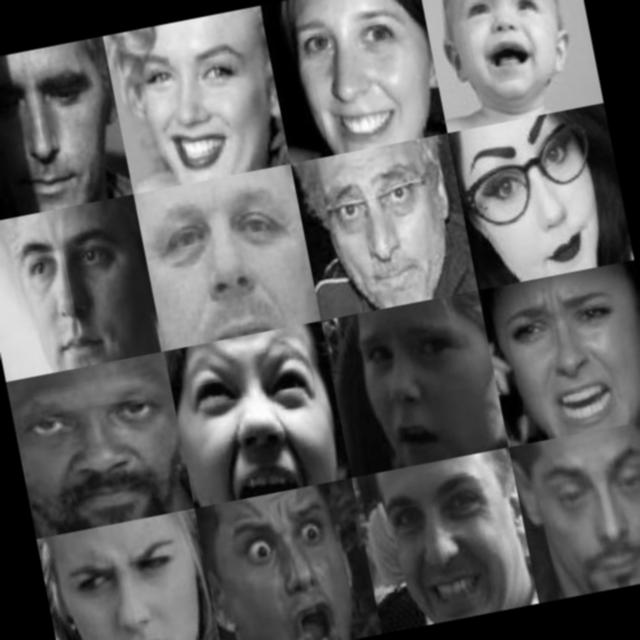angry: (491, 274, 640, 440), (0, 50, 118, 213), (56, 522, 209, 640)
fear: (175, 333, 334, 505), (313, 147, 456, 310), (350, 306, 491, 466), (219, 491, 364, 640)
happy: (376, 460, 519, 628), (125, 23, 272, 186), (287, 0, 429, 155)
neutral: (16, 364, 184, 531), (458, 111, 616, 282), (151, 176, 308, 346), (4, 212, 144, 371)
sad: (530, 432, 640, 598), (447, 0, 563, 99)
